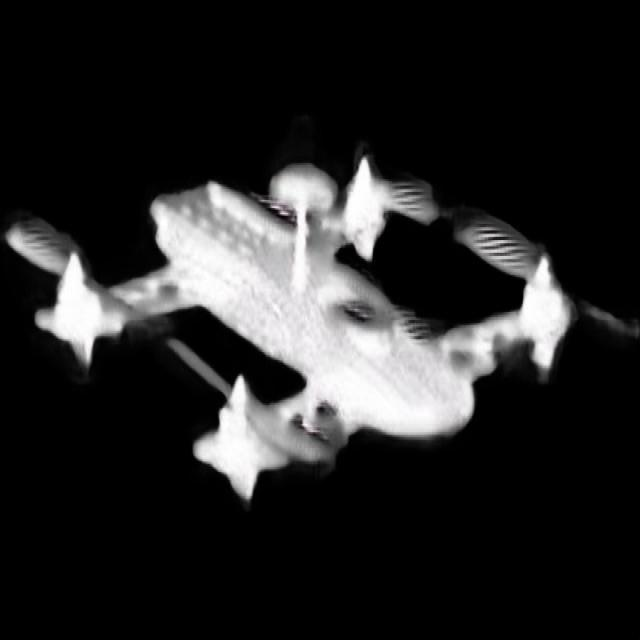drone: (9, 122, 632, 514)
